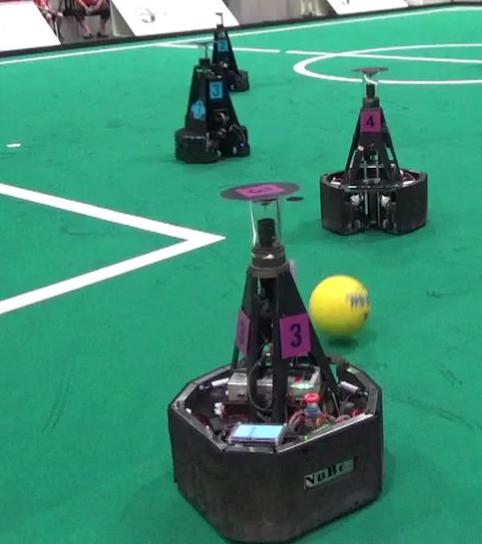robot: (154, 177, 386, 543), (314, 64, 433, 240), (163, 36, 264, 165)
